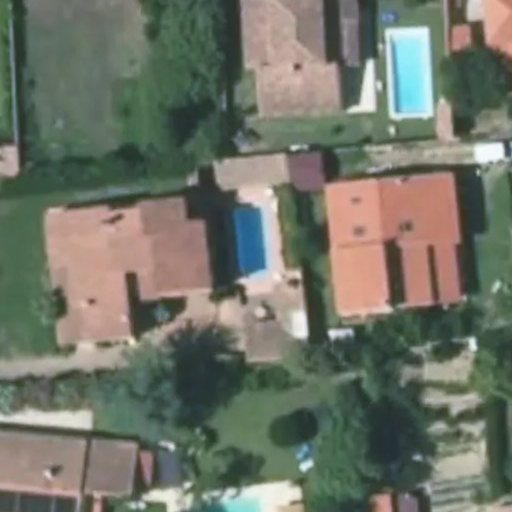pool: (237, 207, 274, 277)
